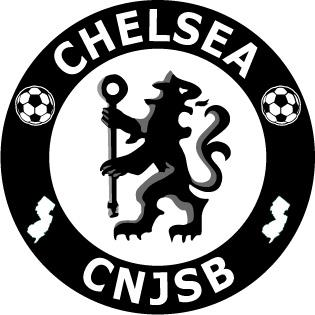chelsea: (11, 9, 285, 299)
